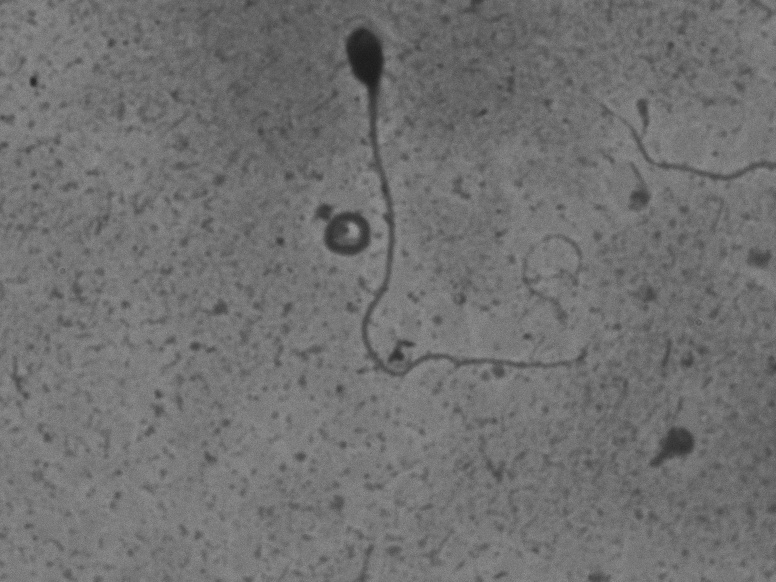Abnormal: (336, 17, 595, 391)
